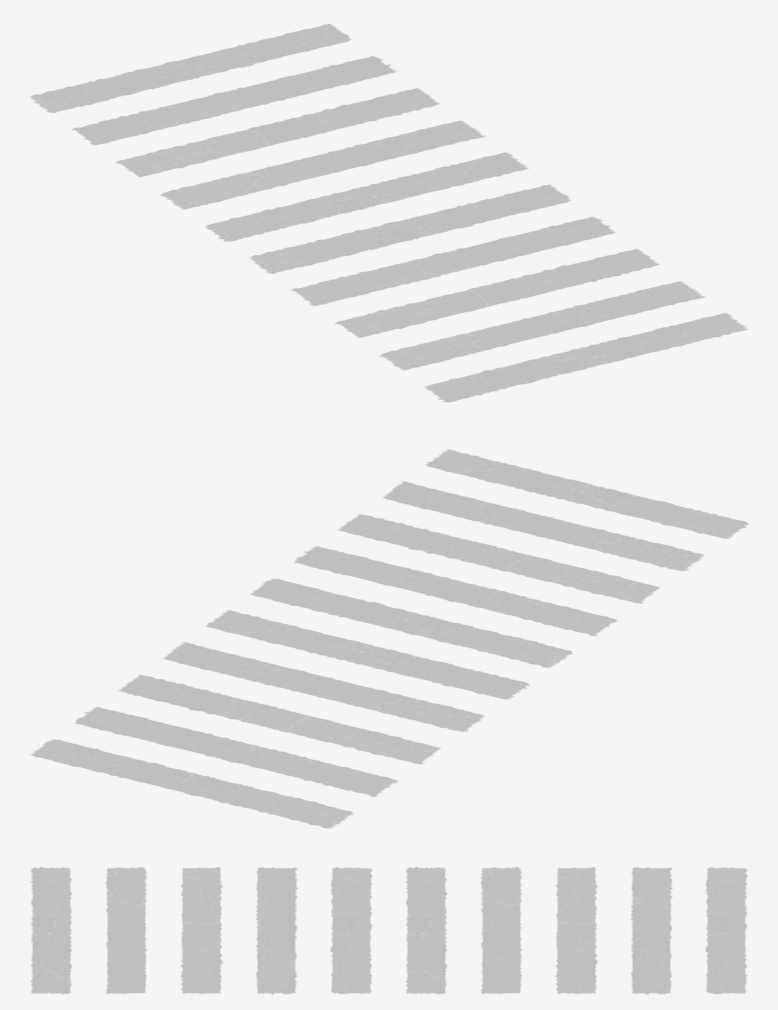
The model's file is q-downtown-decal-crosswalk-wide.glb.
3 views of the same model, one above another, from view 1: azimuth 30°, elevation 25°; view 2: azimuth 150°, elevation 25°; view 3: azimuth 270°, elevation 25° (orthographic). The views are drawn at different scales.
Visible parts, largest first — view 1: Decal_Crosswalk_Wide; view 2: Decal_Crosswalk_Wide; view 3: Decal_Crosswalk_Wide.
Part boxes in pixels (x1=…): Decal_Crosswalk_Wide: x1=30, y1=24, x2=747, y2=402; Decal_Crosswalk_Wide: x1=31, y1=449, x2=748, y2=828; Decal_Crosswalk_Wide: x1=31, y1=867, x2=746, y2=994.
Size of the model in its own units: 4.67 by 0 by 11.42.
Materials: 1 (1 with a texture image).
